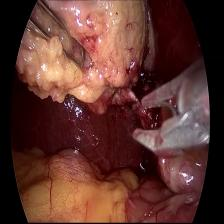Clipper: (132, 71, 208, 158)
Grasper: (28, 0, 86, 89)
